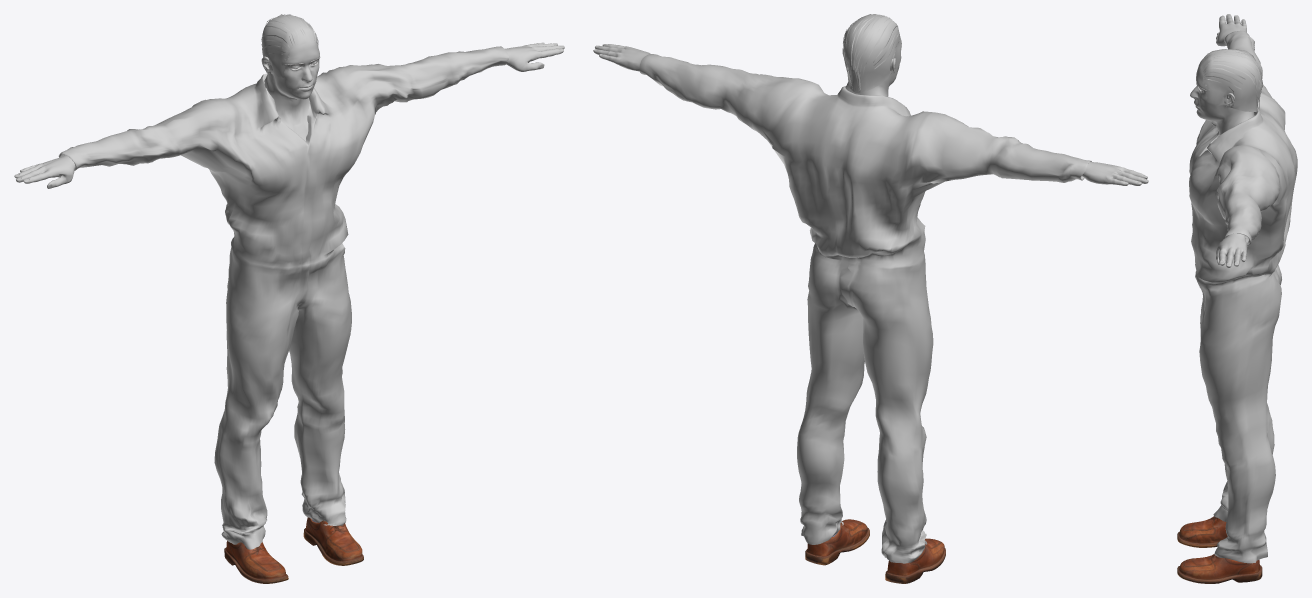
The model's file is Final T pose.fbx.
3 renders of one model, left to right at view 1: azimuth 30°, elevation 25°; view 2: azimuth 150°, elevation 25°; view 3: azimuth 270°, elevation 25°, orthographic. The views are drawn at different scales.
Visible parts, largest first — view 1: male_casualsuit01Mesh, male_muscle_13290Mesh, shoes01Mesh, short04Mesh; view 2: male_casualsuit01Mesh, short04Mesh, shoes01Mesh, male_muscle_13290Mesh; view 3: male_casualsuit01Mesh, short04Mesh, shoes01Mesh, male_muscle_13290Mesh.
Part boxes in pixels (box(x1,y1,x2,y2)): male_casualsuit01Mesh: box(58, 46, 508, 549); male_muscle_13290Mesh: box(14, 41, 564, 188); shoes01Mesh: box(224, 517, 363, 583); short04Mesh: box(261, 14, 319, 77); male_casualsuit01Mesh: box(639, 54, 1091, 563); short04Mesh: box(842, 14, 901, 93); shoes01Mesh: box(805, 519, 945, 583); male_muscle_13290Mesh: box(593, 38, 1148, 185); male_casualsuit01Mesh: box(1189, 30, 1297, 563); short04Mesh: box(1200, 49, 1262, 111); shoes01Mesh: box(1177, 516, 1262, 583); male_muscle_13290Mesh: box(1190, 14, 1254, 267).
Bounding box in the file's own units: 187 × 176 × 37.8.
